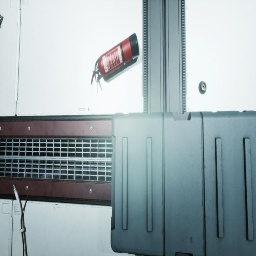FireExtinguisher ]: (91, 33, 140, 85)
